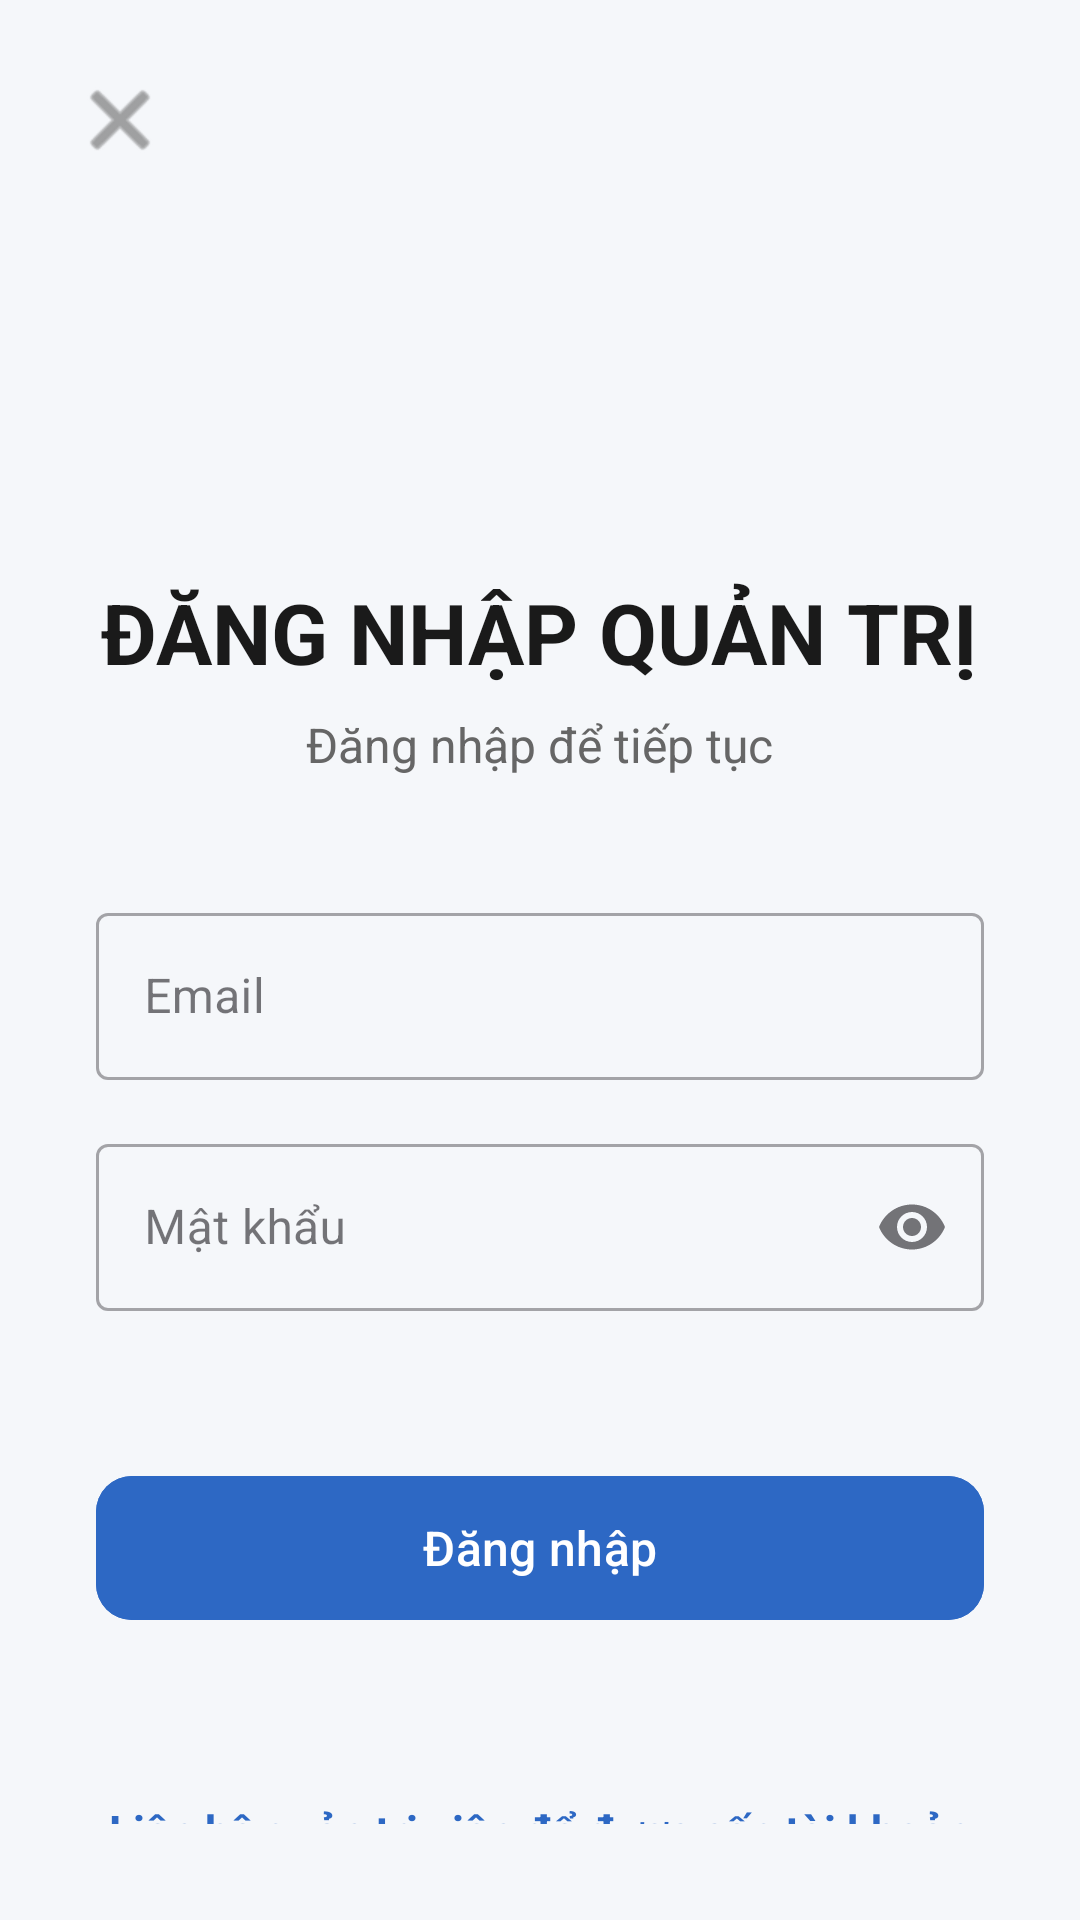

Named icons in this screenshot (1080px x 1920px) and their bounding boxes, (x1, y1, x2, y2):
Quay lại: (90, 90, 150, 150)
